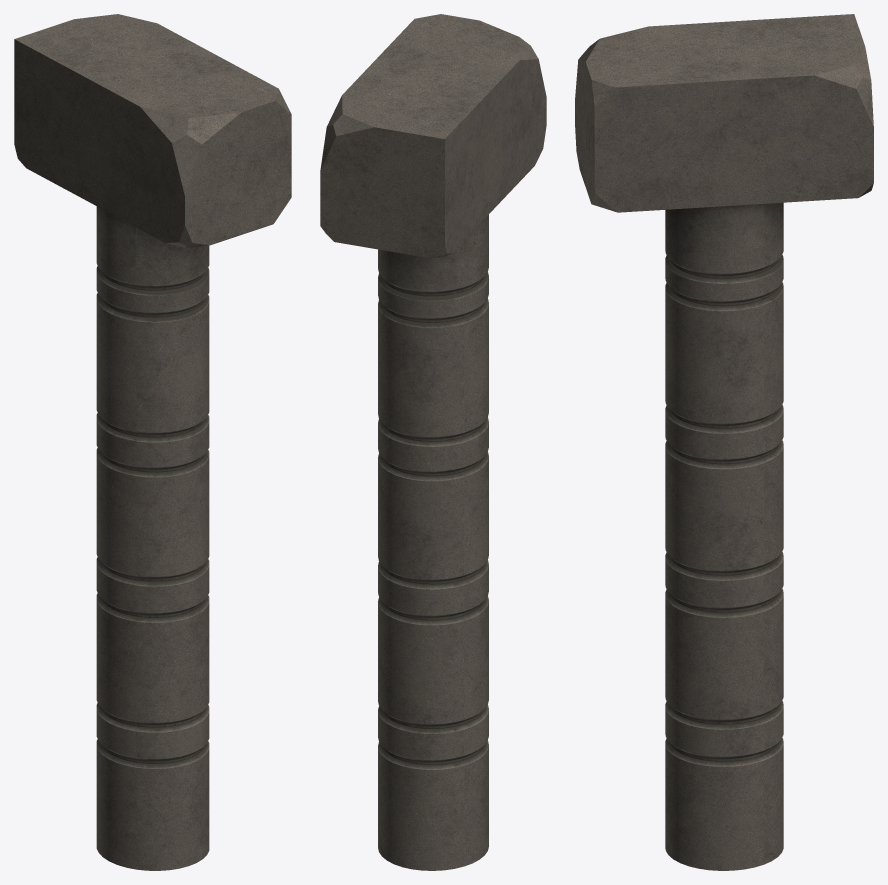
Rendered from pilar.glb.
3 views of the same model, side by side, from view 1: azimuth 30°, elevation 25°; view 2: azimuth 150°, elevation 25°; view 3: azimuth 270°, elevation 25° (orthographic). The views are drawn at different scales.
Visible parts, largest first — view 1: Pilar1; view 2: Pilar1; view 3: Pilar1.
Part boxes in pixels (box(x1,y1,x2,y2)): Pilar1: box(14, 14, 291, 870); Pilar1: box(320, 14, 546, 870); Pilar1: box(575, 14, 873, 870).
Size of the model in its own units: 0.0853 by 0.4231 by 0.144.
1 material, 1 textured.
